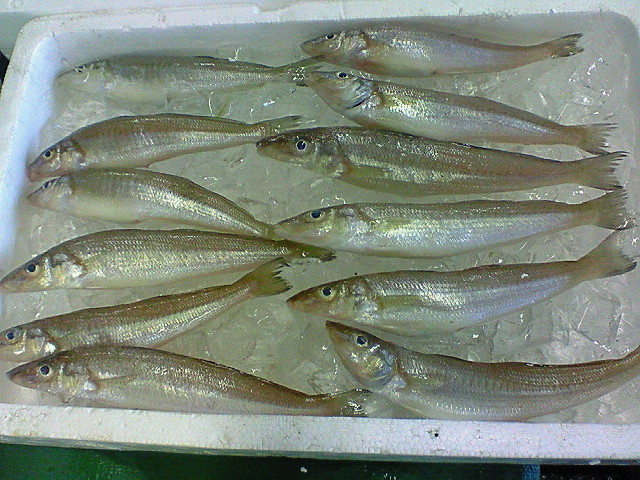kiss: (321, 317, 640, 418), (282, 257, 629, 336), (307, 68, 614, 154), (258, 128, 631, 198), (6, 347, 368, 412), (274, 194, 629, 257), (1, 228, 330, 292), (20, 165, 288, 237), (301, 22, 587, 80), (25, 110, 301, 167), (52, 54, 315, 93)
